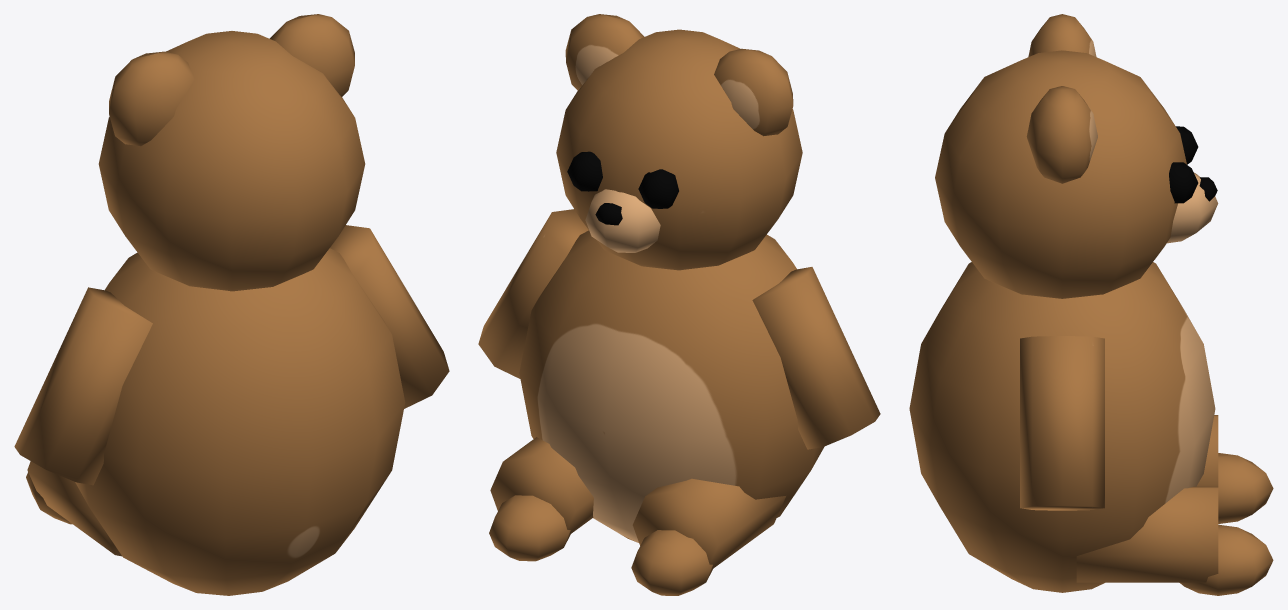
Rendered from Bear.glb.
The picture shows the model from 3 angles, left to right: view 1: azimuth 30°, elevation 25°; view 2: azimuth 150°, elevation 25°; view 3: azimuth 270°, elevation 25°; orthographic projection. The views are drawn at different scales.
Parts seen in each view (by area): view 1: Bear_BodyHead; view 2: Bear_BodyHead, Bear_Eyes; view 3: Bear_BodyHead, Bear_Eyes.
Boxes of the visible parts, x1,y1,x2,y2 form: Bear_BodyHead: [14, 14, 449, 595]; Bear_BodyHead: [478, 14, 880, 595]; Bear_Eyes: [567, 151, 678, 208]; Bear_BodyHead: [909, 14, 1273, 595]; Bear_Eyes: [1169, 126, 1198, 203].
Size of the model in its own units: 1.65 by 2.04 by 1.28.
2 materials, 1 textured.
